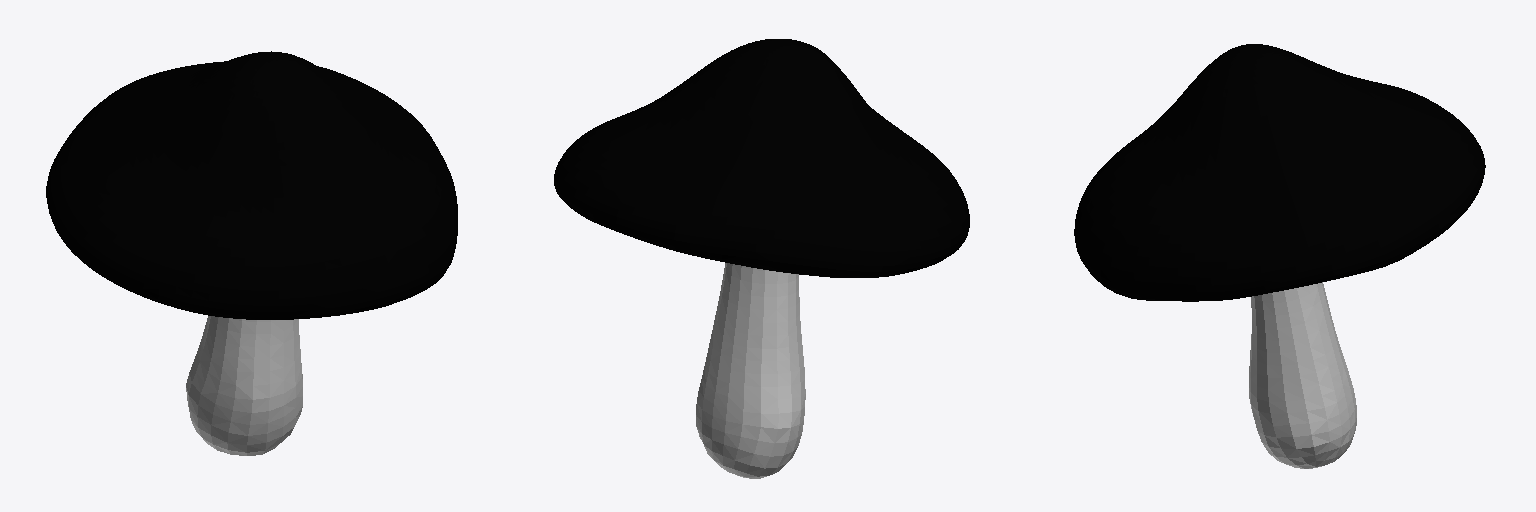
File: Mushroom.obj
3 views of the same model, side by side, from view 1: azimuth 30°, elevation 25°; view 2: azimuth 150°, elevation 25°; view 3: azimuth 270°, elevation 25° (orthographic).
Parts seen in each view (by area): view 1: M_Cap.004; view 2: M_Cap.004; view 3: M_Cap.004.
Part boxes in pixels (bbox=[...]): M_Cap.004: bbox=[46, 51, 457, 455]; M_Cap.004: bbox=[554, 39, 969, 478]; M_Cap.004: bbox=[1074, 44, 1485, 468].
Size of the model in its own units: 0.2407 by 0.261 by 0.2378.